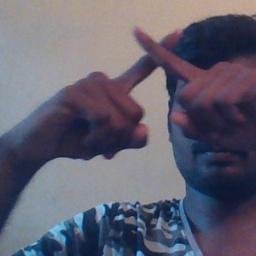X: (86, 19, 227, 130)
